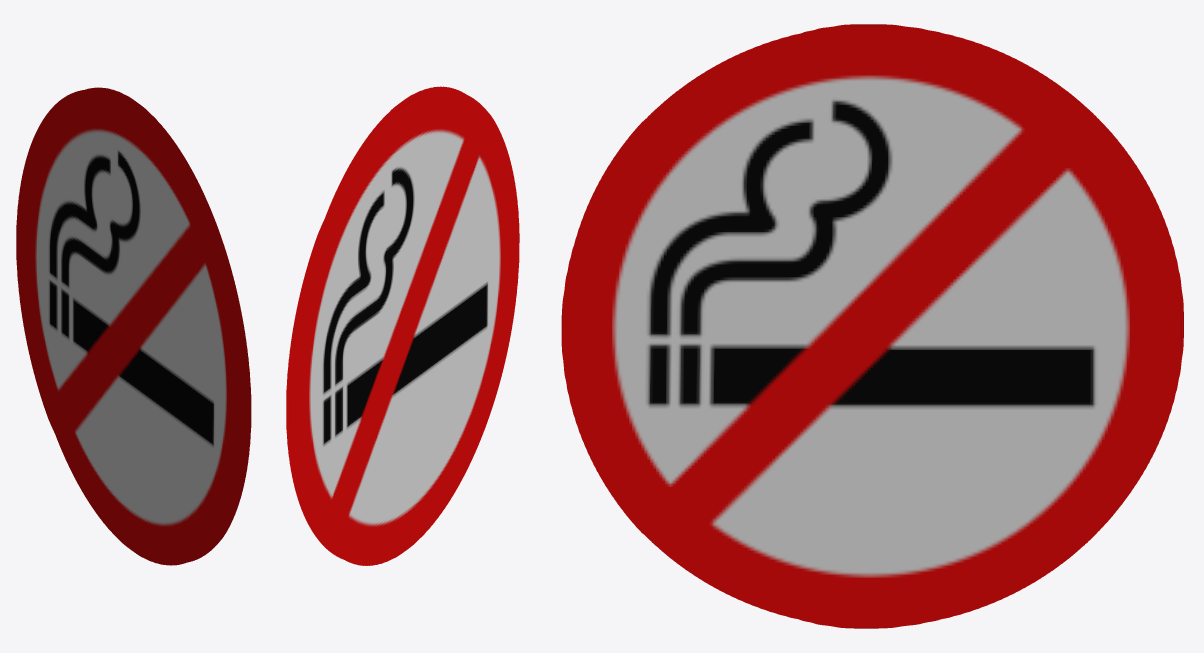
Rendered from DecalNoSmoking.fbx.
3 views of the same model, side by side, from view 1: azimuth 30°, elevation 25°; view 2: azimuth 150°, elevation 25°; view 3: azimuth 270°, elevation 25° (orthographic). The views are drawn at different scales.
Visible parts, largest first — view 1: DecalNoSmoking; view 2: DecalNoSmoking; view 3: DecalNoSmoking.
Part boxes in pixels (bbox=[...]): DecalNoSmoking: bbox=[16, 87, 251, 565]; DecalNoSmoking: bbox=[286, 86, 519, 565]; DecalNoSmoking: bbox=[561, 24, 1183, 628].
Bounding box in the file's own units: 5.01e-05 × 0.00462 × 0.00429.
